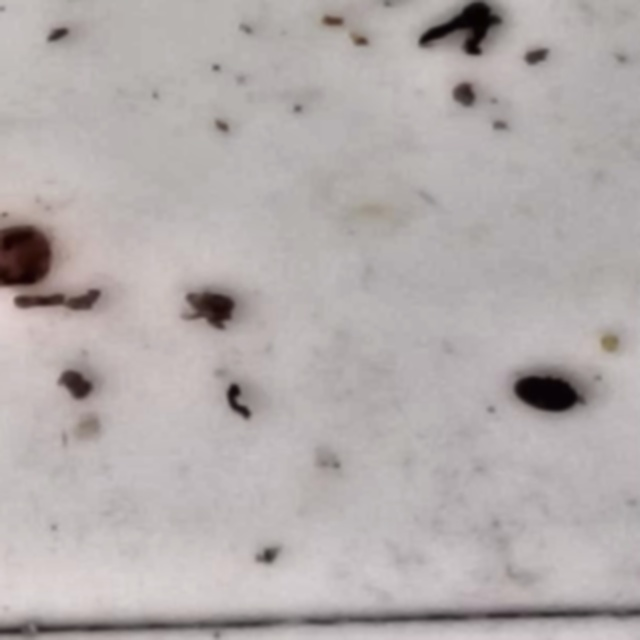varroa: (507, 373, 581, 415)
